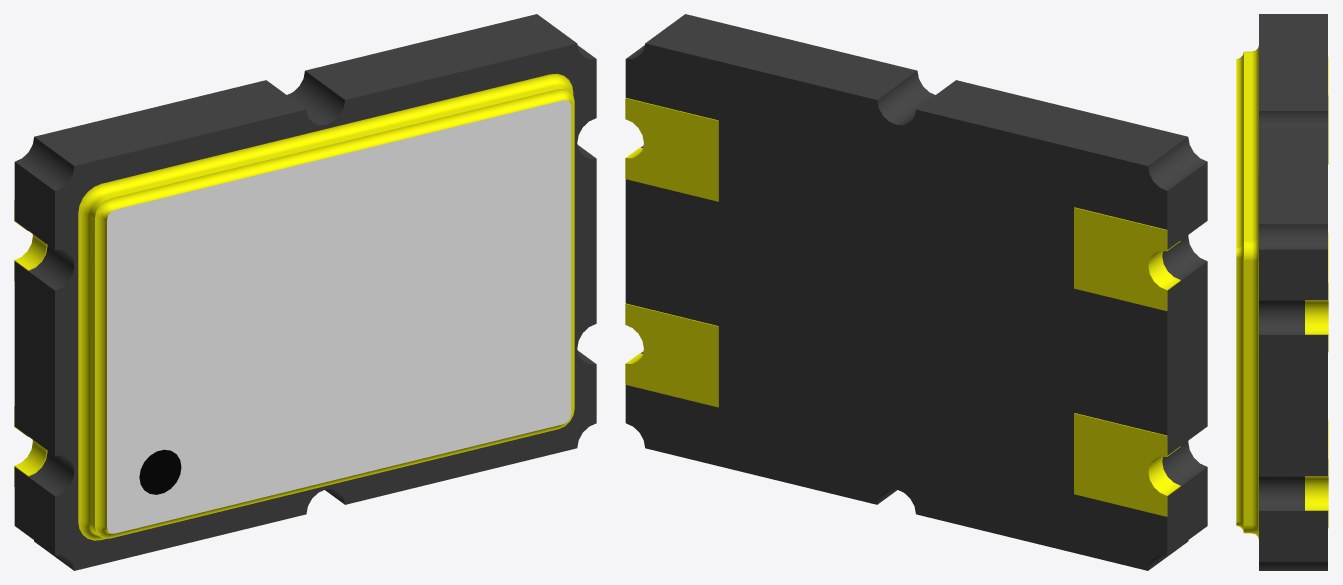
File: IQD_LFXTAL056516REEL.3dmodel.glb
The picture shows the model from 3 angles, left to right: view 1: azimuth 30°, elevation 25°; view 2: azimuth 150°, elevation 25°; view 3: azimuth 270°, elevation 25°; orthographic projection. The views are drawn at different scales.
Parts seen in each view (by area): view 1: =>[0:1:1:1]; view 2: =>[0:1:1:1]; view 3: =>[0:1:1:1].
Boxes of the visible parts, bbox=[...] form: =>[0:1:1:1]: bbox=[14, 14, 596, 570]; =>[0:1:1:1]: bbox=[625, 14, 1207, 570]; =>[0:1:1:1]: bbox=[1236, 14, 1328, 570].
Size of the model in its own units: 7 by 5 by 1.21.
